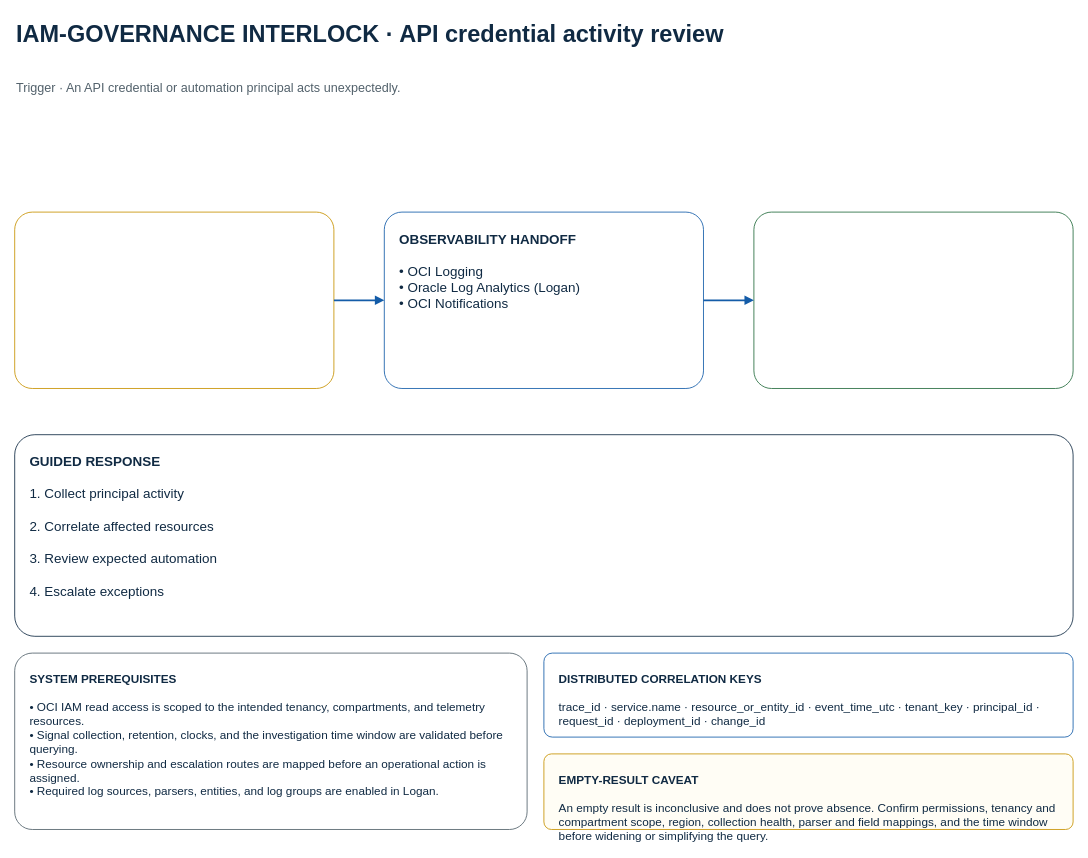
The diagram is 1088 pixels wide and 858 high, and some of its shapes have lost their labels. Each missing label, with the box of its shape:
OPERATIONAL OUTCOME • Link automated activity to a principal, scope, and owner.: (753, 211, 1073, 388)
SOURCE EVIDENCE • Audit API events • Principal context • Resource changes: (14, 211, 334, 388)
